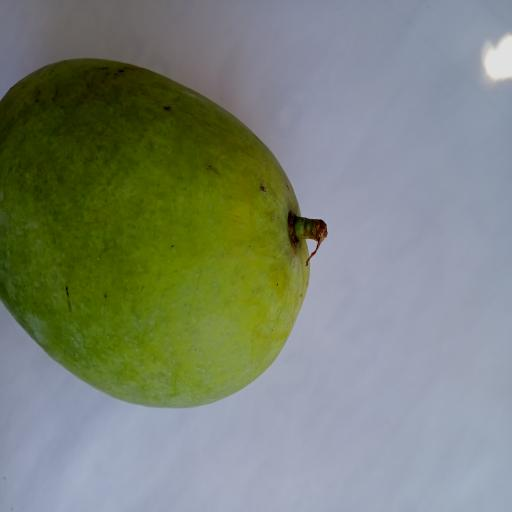mango-unripe: (0, 48, 339, 417)
